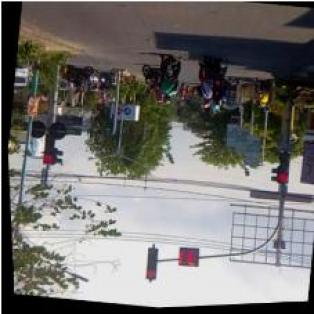Semaforo Rojo: (38, 133, 55, 167), (274, 155, 290, 187), (142, 248, 158, 280)
